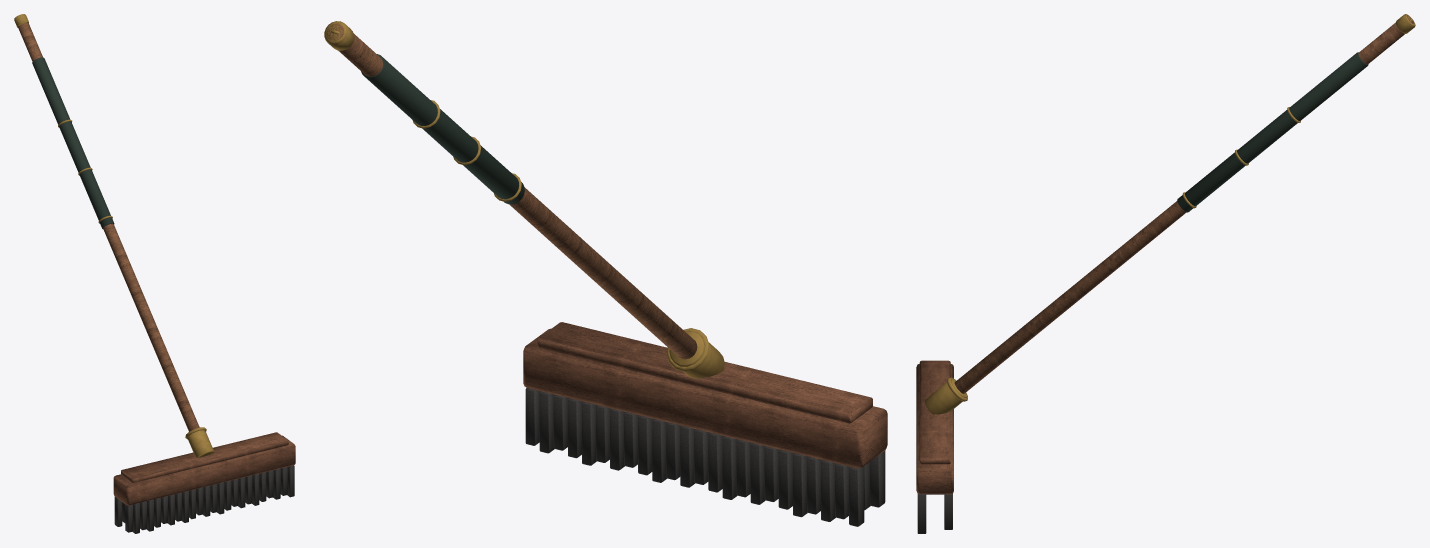
The model's file is asset_074_broom_fp.glb.
3 renders of one model, left to right at view 1: azimuth 30°, elevation 25°; view 2: azimuth 150°, elevation 25°; view 3: azimuth 270°, elevation 25°, orthographic. The views are drawn at different scales.
Parts seen in each view (by area): view 1: MESH_BroomBristles, MESH_BroomBlock, MESH_BroomHandle, MESH_BroomBlockCap, MESH_BroomGripWrap, MESH_BroomFerrule; view 2: MESH_BroomBristles, MESH_BroomBlock, MESH_BroomBlockCap, MESH_BroomHandle, MESH_BroomGripWrap, MESH_BroomFerrule, MESH_BroomButtCap; view 3: MESH_BroomHandle, MESH_BroomGripWrap, MESH_BroomBlockCap, MESH_BroomBlock, MESH_BroomFerrule, MESH_BroomBristles.
Part boxes in pixels (left/top/right/bottom): MESH_BroomBristles: left=114, top=465, right=294, bottom=533; MESH_BroomBlock: left=113, top=435, right=295, bottom=505; MESH_BroomHandle: left=18, top=23, right=199, bottom=431; MESH_BroomBlockCap: left=121, top=432, right=288, bottom=482; MESH_BroomGripWrap: left=32, top=57, right=114, bottom=228; MESH_BroomFerrule: left=187, top=430, right=214, bottom=457; MESH_BroomBristles: left=525, top=388, right=885, bottom=526; MESH_BroomBlock: left=523, top=328, right=887, bottom=468; MESH_BroomBlockCap: left=537, top=322, right=872, bottom=423; MESH_BroomHandle: left=326, top=23, right=697, bottom=359; MESH_BroomGripWrap: left=361, top=54, right=524, bottom=204; MESH_BroomFerrule: left=669, top=331, right=724, bottom=378; MESH_BroomButtCap: left=324, top=21, right=353, bottom=50; MESH_BroomHandle: left=954, top=15, right=1413, bottom=393; MESH_BroomGripWrap: left=1177, top=52, right=1368, bottom=212; MESH_BroomBlockCap: left=919, top=360, right=950, bottom=464; MESH_BroomBlock: left=916, top=364, right=953, bottom=494; MESH_BroomFerrule: left=924, top=379, right=967, bottom=414; MESH_BroomBristles: left=917, top=493, right=952, bottom=533.
Size of the model in its own units: 0.52 by 1.06 by 1.03.
Materials: 5 (5 with a texture image).
